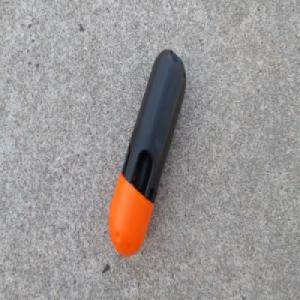PlasticPart: (107, 47, 187, 257)
